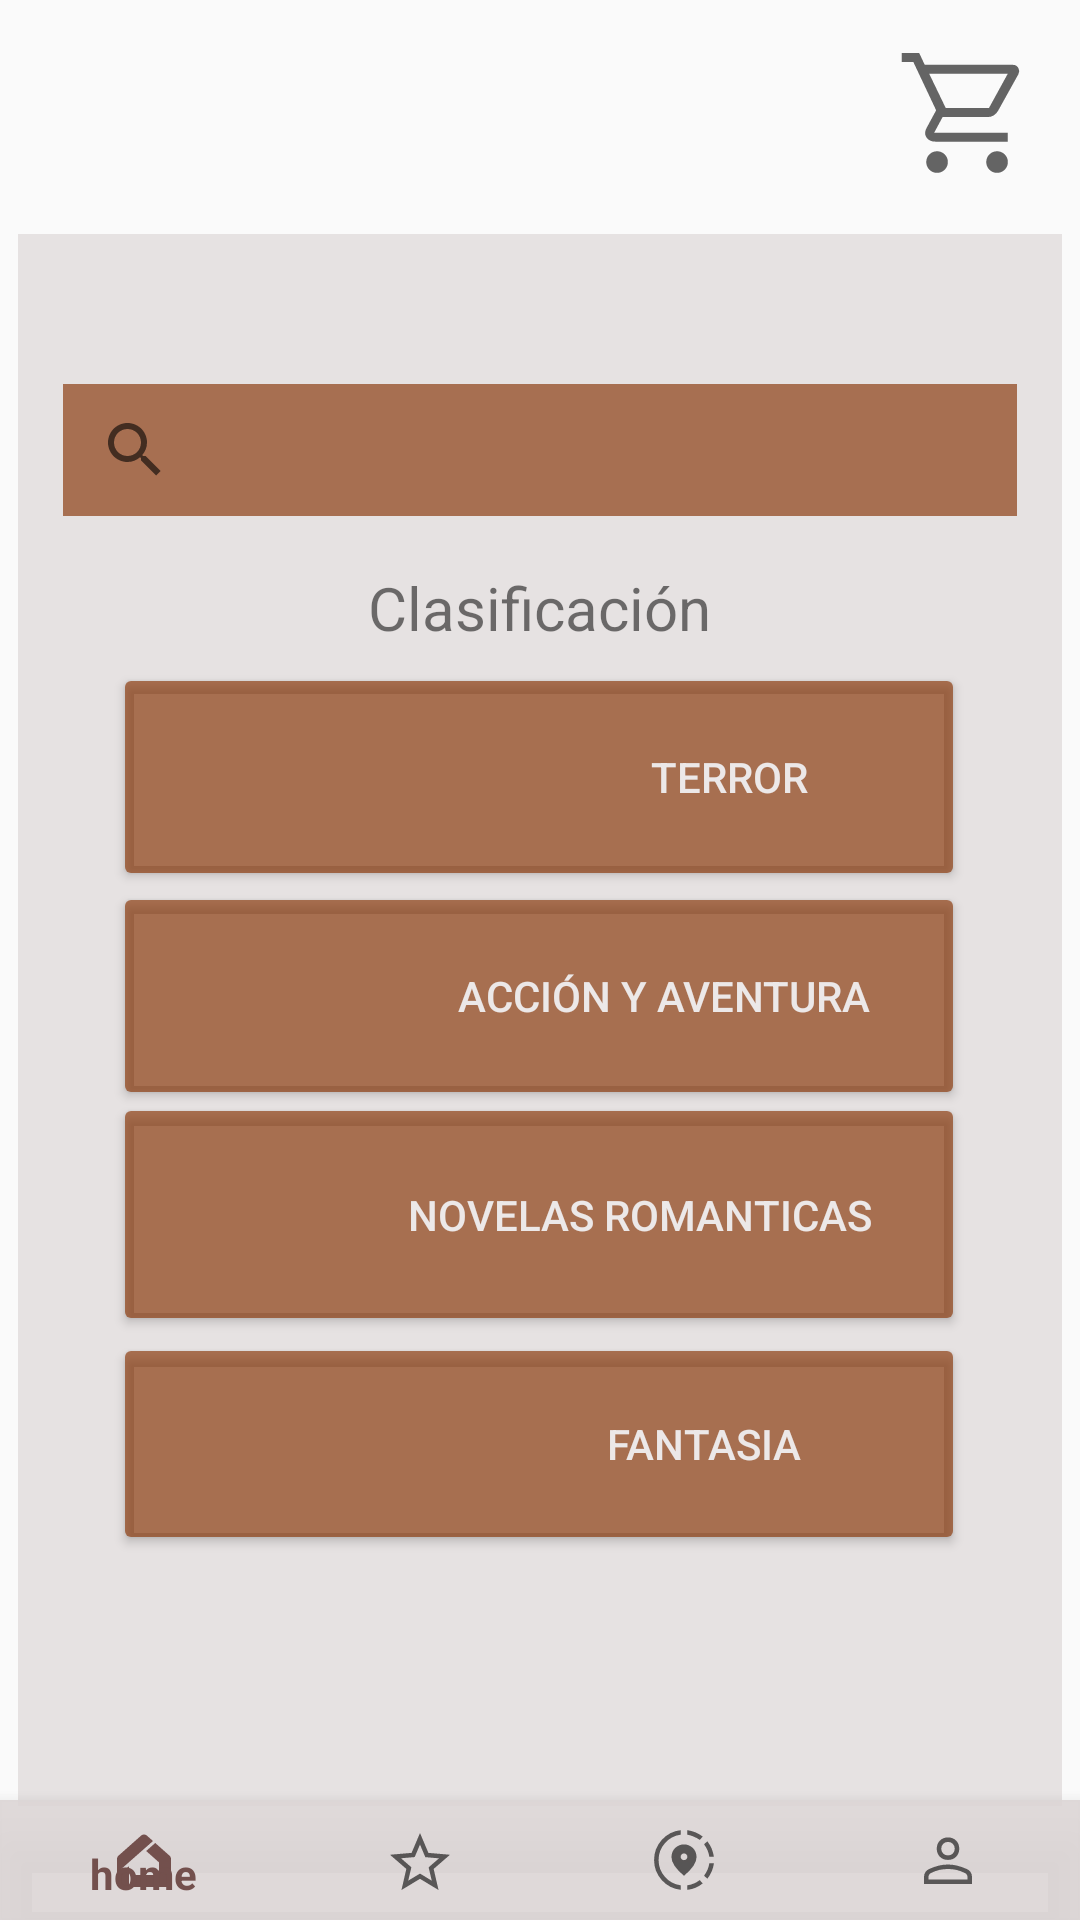

Icon click points for this 1080 × 1920 phone screenshot, format point (x, y):
carrito: point (960, 113)
